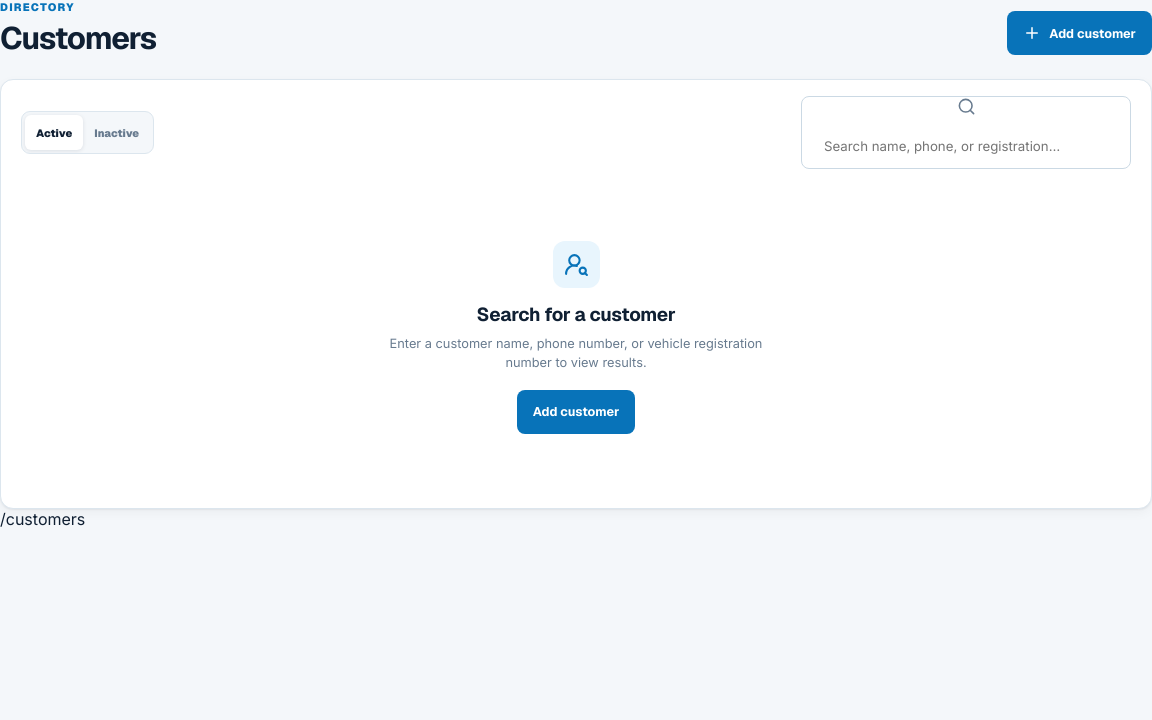
Test case: Customers directory — contact actions › renders the contact actions for staff users
Type "Test" into the search field with placeholder "Search name, phone, or registration…" at coordinates (966, 146), box [813, 124, 1119, 168]
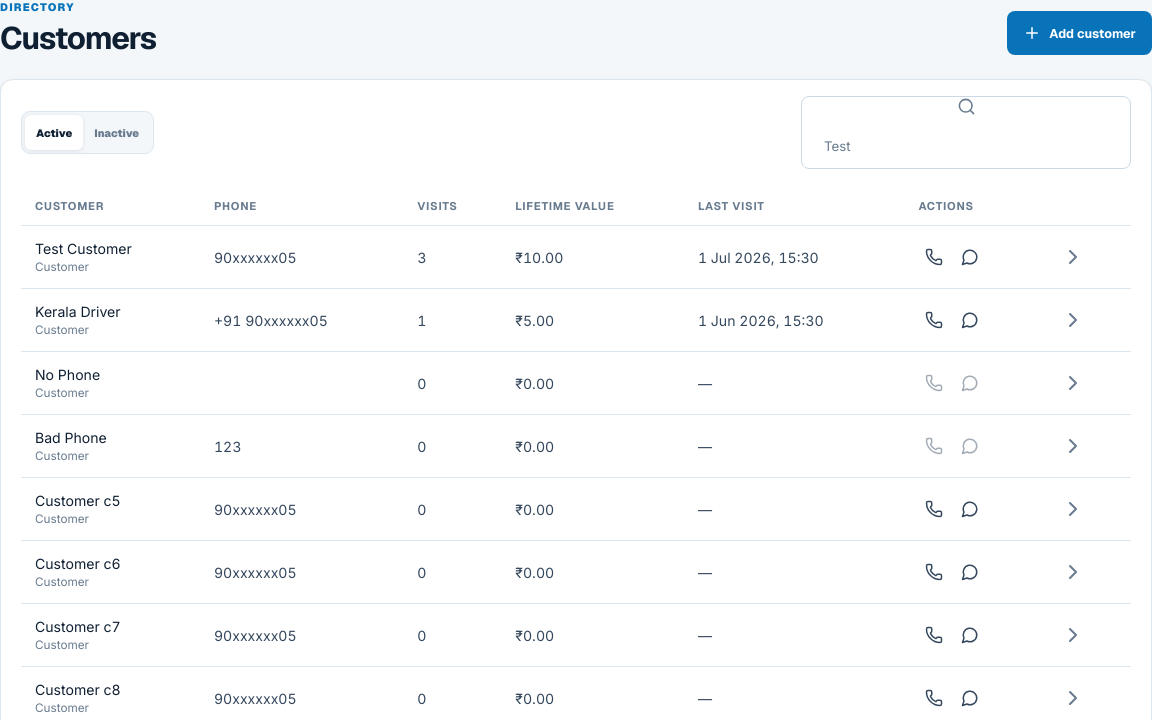
Expected: the text "Test Customer" is shown, [35, 240, 132, 257]
Expected: the link named "Call Test Customer" is shown, [925, 248, 943, 266]
Expected: the link named "Message Test Customer on WhatsApp" is shown, [961, 248, 979, 266]
